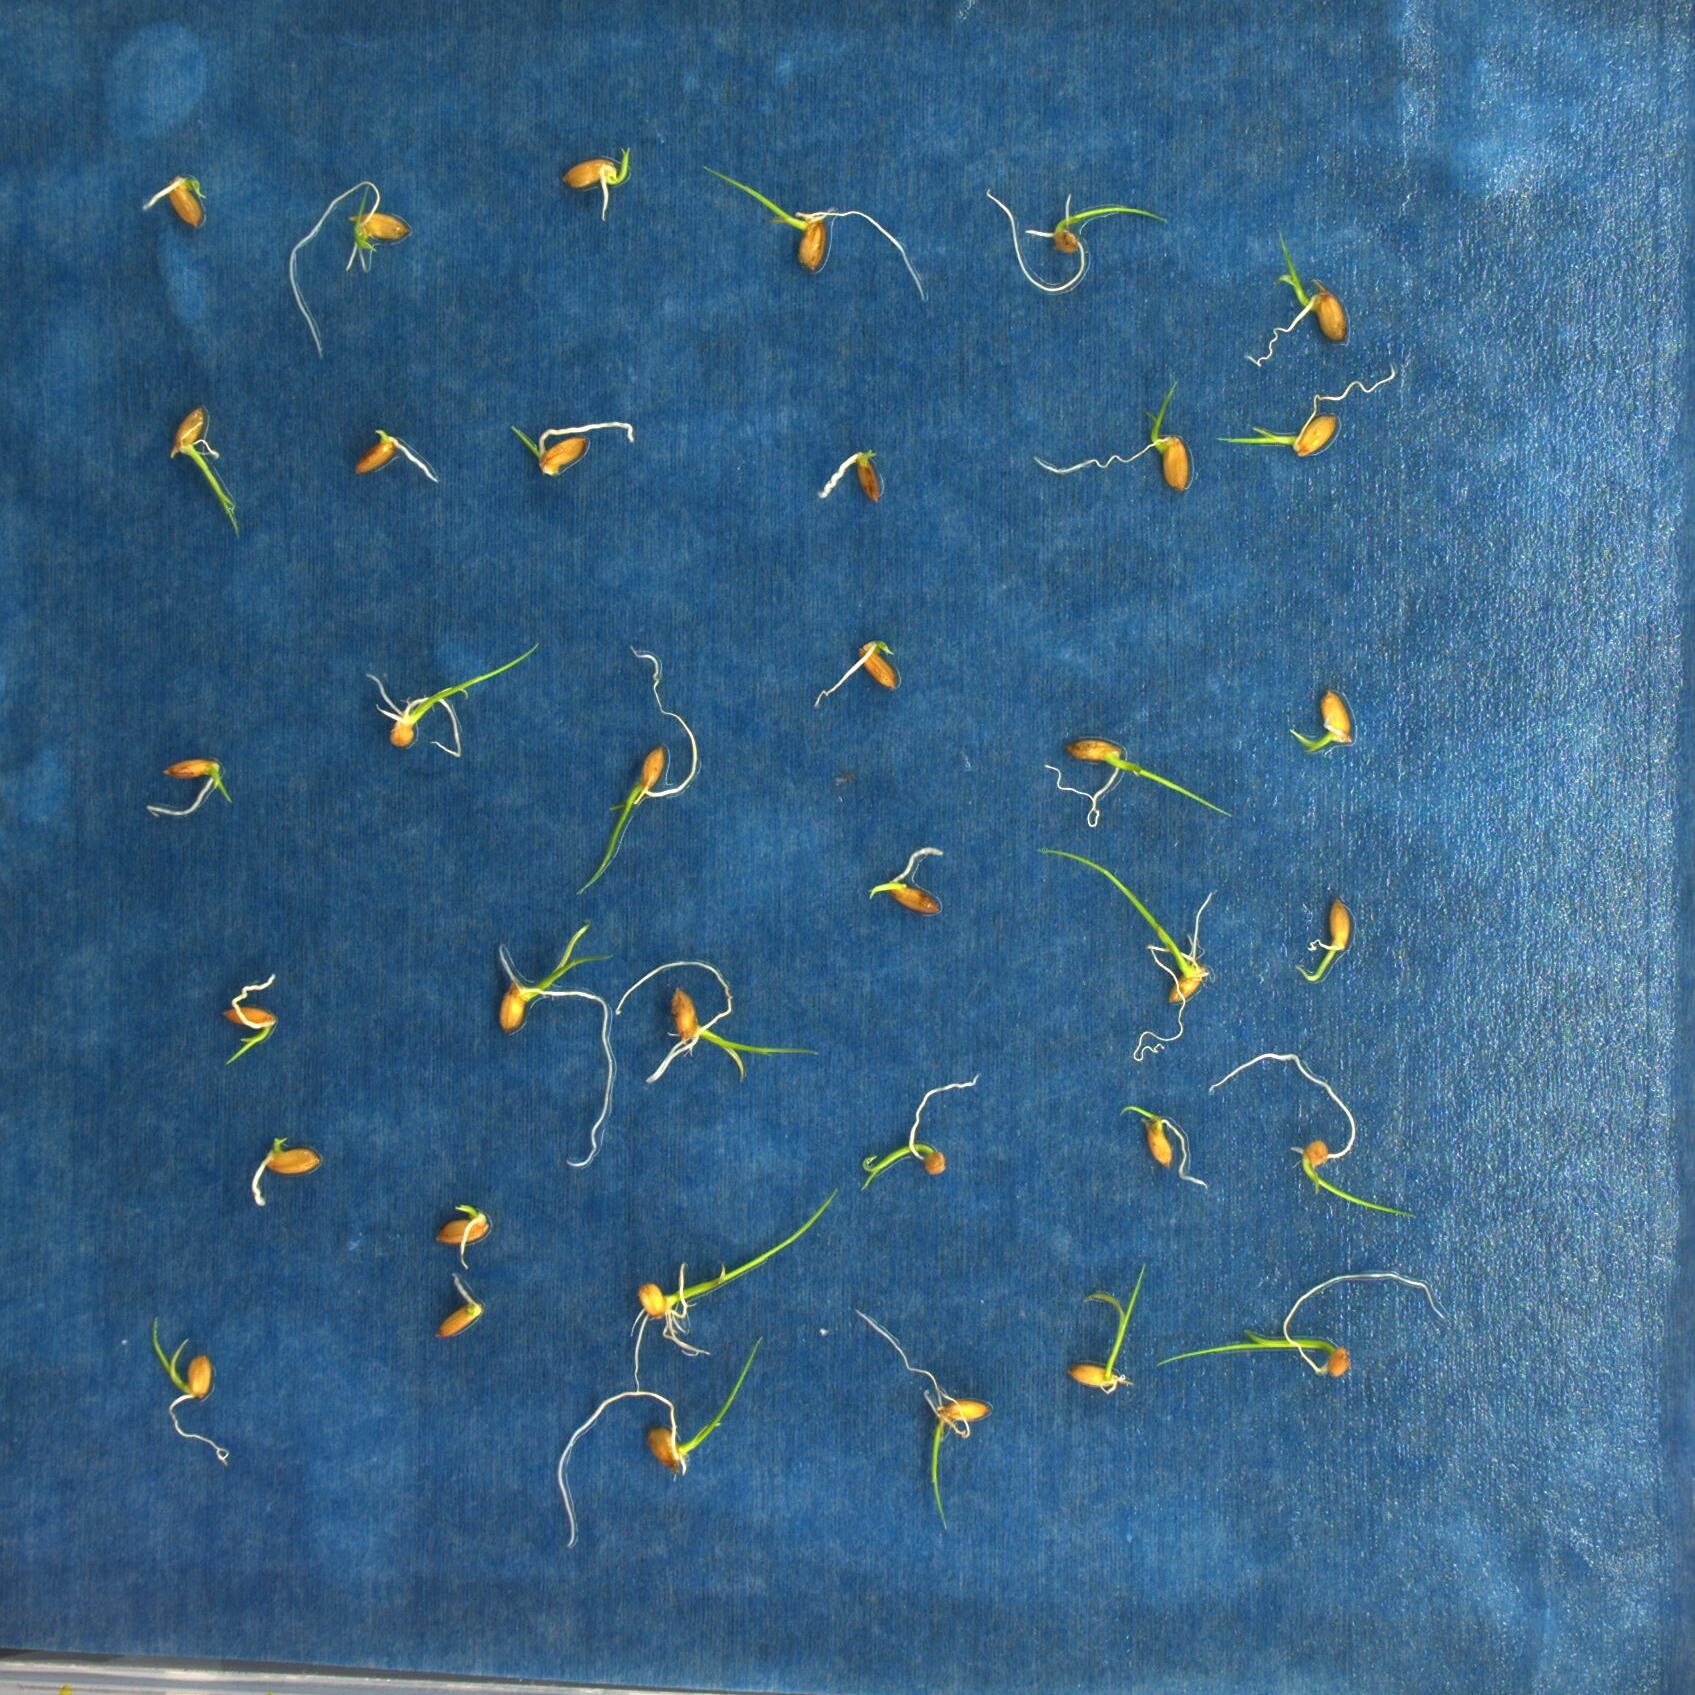not sprout: (816, 632, 917, 705), (802, 447, 903, 515), (349, 424, 438, 494), (244, 1132, 326, 1203), (137, 166, 216, 231), (432, 1276, 490, 1347), (432, 1201, 495, 1267)
sprout: (549, 1321, 768, 1552), (700, 143, 933, 321), (622, 1180, 810, 1389), (1040, 826, 1226, 1028), (563, 646, 711, 894), (1132, 1287, 1467, 1394), (1226, 1038, 1388, 1245), (483, 925, 618, 1166), (861, 1309, 997, 1541), (351, 601, 515, 776), (608, 956, 823, 1090), (1020, 720, 1242, 838), (1218, 216, 1371, 380), (293, 165, 413, 369), (1037, 376, 1208, 512), (995, 163, 1191, 281), (835, 1076, 1009, 1198), (1212, 363, 1406, 467), (140, 1319, 241, 1470), (161, 393, 261, 534), (1066, 1257, 1153, 1402), (206, 962, 315, 1069), (861, 832, 962, 927), (504, 421, 650, 486), (1118, 1093, 1209, 1194), (1287, 894, 1369, 987), (135, 751, 233, 823), (1293, 680, 1367, 771), (559, 147, 640, 227)
